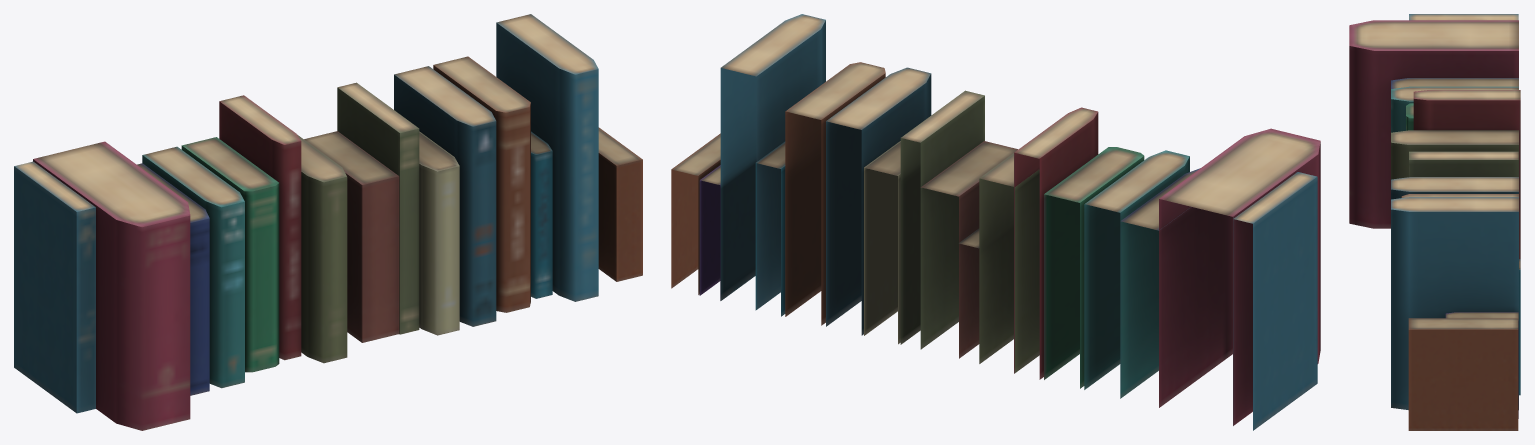
Rendered from Sun_0078_Books.fbx.
3 views of the same model, side by side, from view 1: azimuth 30°, elevation 25°; view 2: azimuth 150°, elevation 25°; view 3: azimuth 270°, elevation 25° (orthographic). The views are drawn at different scales.
Visible parts, largest first — view 1: Sun_0078_Books; view 2: Sun_0078_Books; view 3: Sun_0078_Books.
Part boxes in pixels (x1,y1,x2,y2): Sun_0078_Books: (14,14,642,430); Sun_0078_Books: (671,14,1320,430); Sun_0078_Books: (1349,14,1520,430).
Size of the model in its own units: 78.6 by 30.16 by 23.61.
